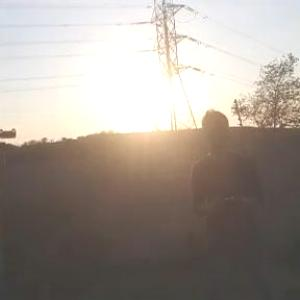follow: (188, 103, 268, 299)
